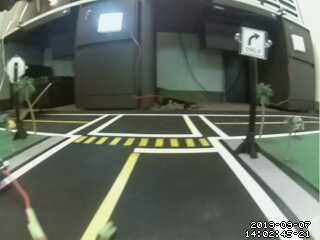Right_only_sign: (235, 25, 274, 65)
